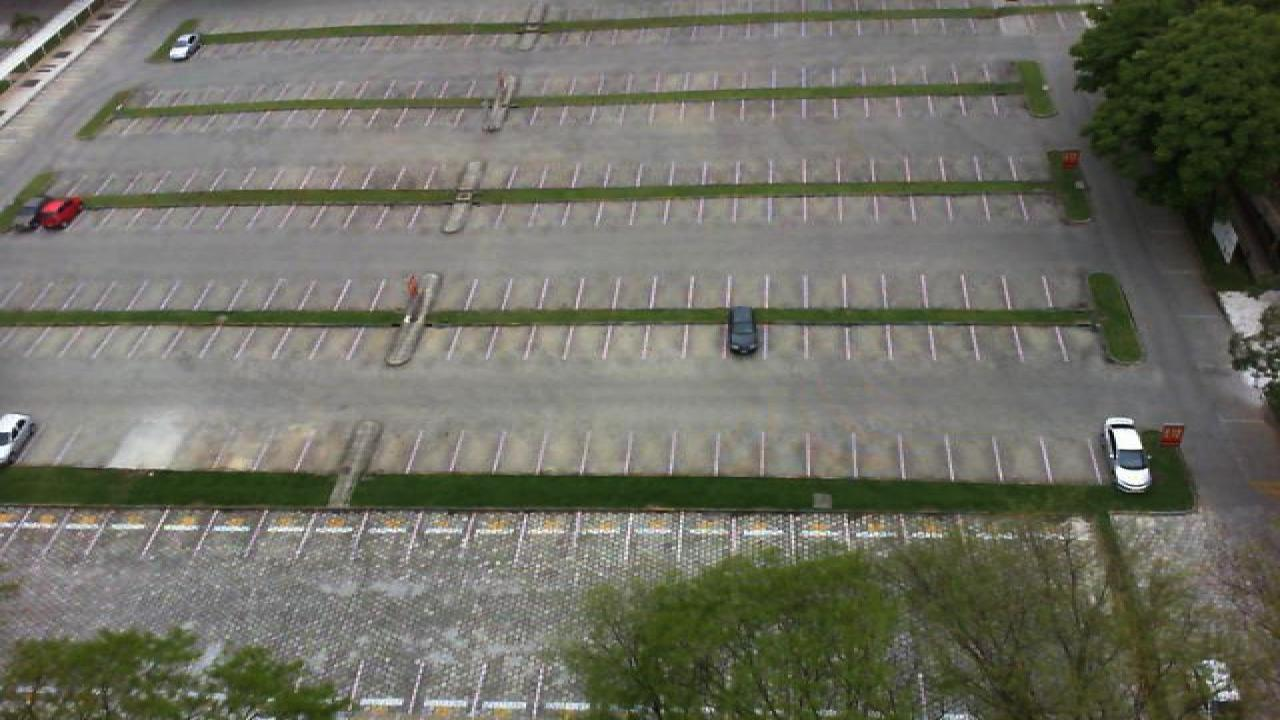Car: (1104, 417, 1154, 493), (32, 195, 84, 231), (726, 306, 762, 357), (0, 414, 34, 466), (168, 33, 202, 61)
